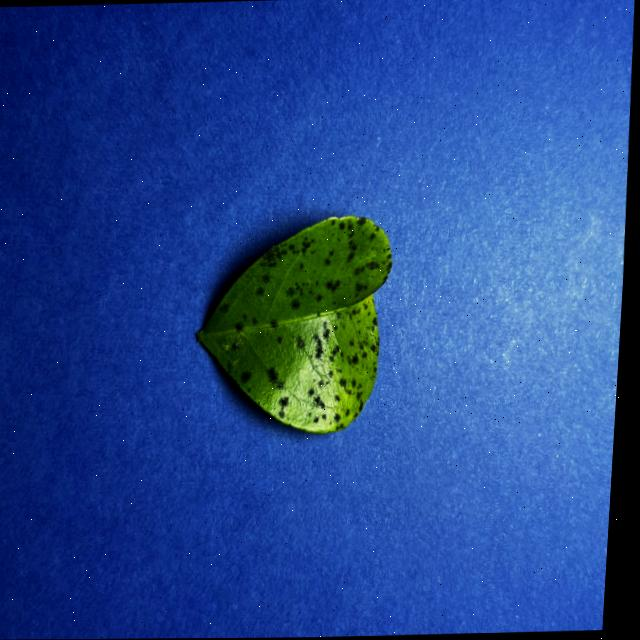sooty_mold: (197, 215, 392, 431)
